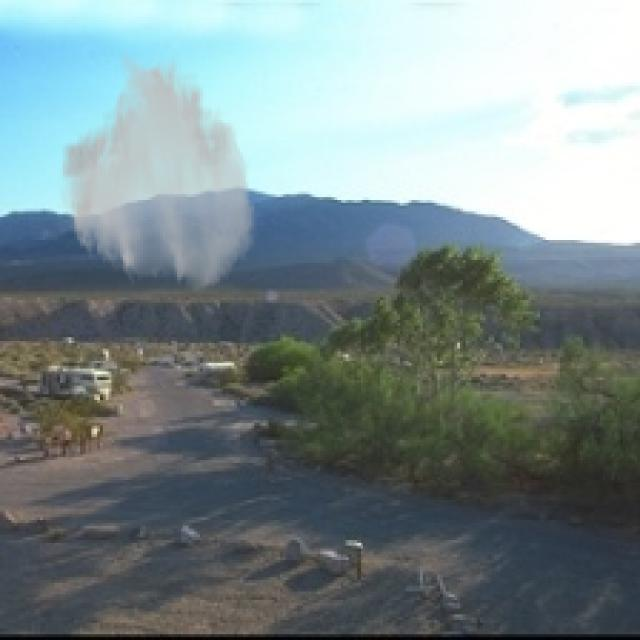Smoke: (57, 48, 257, 294)
